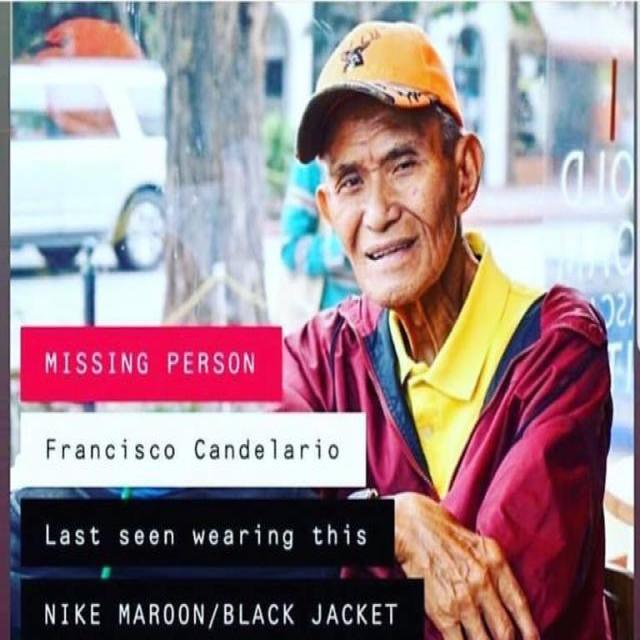human: (224, 19, 618, 640)
